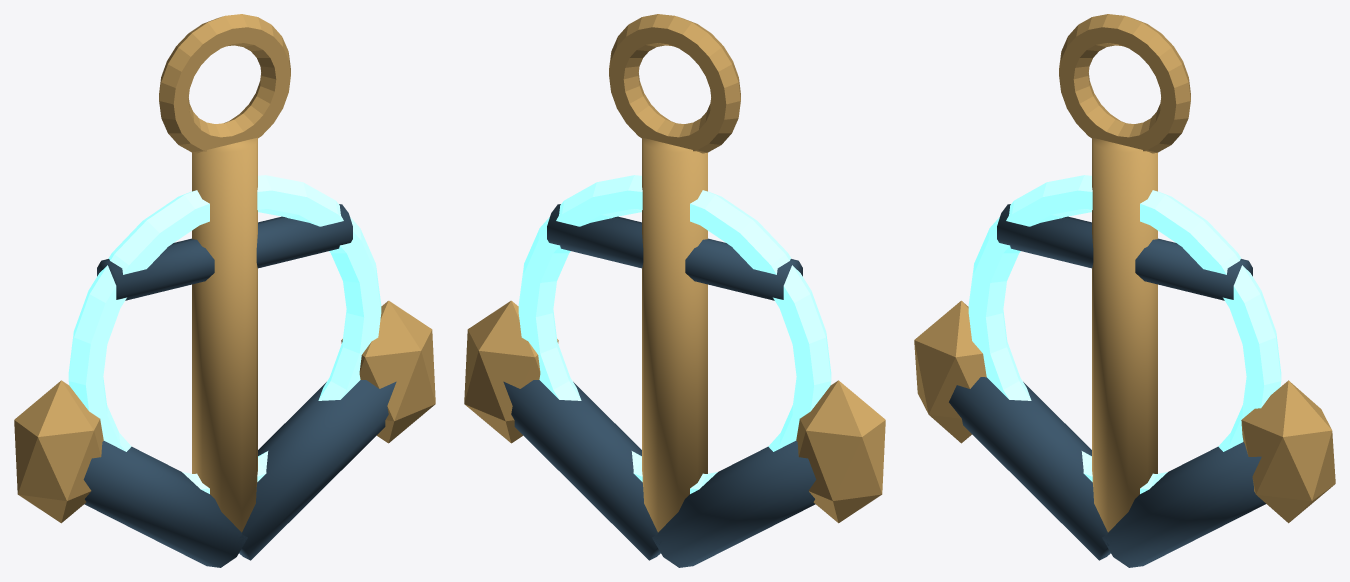
The model's file is relic-salvageMagnet.glb.
The picture shows the model from 3 angles, left to right: view 1: azimuth 30°, elevation 25°; view 2: azimuth 150°, elevation 25°; view 3: azimuth 330°, elevation 25°; orthographic projection.
Parts seen in each view (by area): view 1: relic-salvageMagnet / Brass | machined champagne, relic-salvageMagnet / Paint | Prussian blue, relic-salvageMagnet / Glass | luminous mint; view 2: relic-salvageMagnet / Brass | machined champagne, relic-salvageMagnet / Paint | Prussian blue, relic-salvageMagnet / Glass | luminous mint; view 3: relic-salvageMagnet / Brass | machined champagne, relic-salvageMagnet / Paint | Prussian blue, relic-salvageMagnet / Glass | luminous mint.
Boxes of the visible parts, box(x1,y1,x2,y2) form: relic-salvageMagnet / Brass | machined champagne: box(14, 14, 435, 532); relic-salvageMagnet / Paint | Prussian blue: box(83, 204, 396, 567); relic-salvageMagnet / Glass | luminous mint: box(68, 175, 381, 493); relic-salvageMagnet / Brass | machined champagne: box(464, 14, 885, 532); relic-salvageMagnet / Paint | Prussian blue: box(503, 204, 816, 567); relic-salvageMagnet / Glass | luminous mint: box(518, 175, 831, 493); relic-salvageMagnet / Brass | machined champagne: box(914, 14, 1335, 532); relic-salvageMagnet / Paint | Prussian blue: box(949, 204, 1265, 567); relic-salvageMagnet / Glass | luminous mint: box(968, 175, 1281, 493).
Bounding box in the file's own units: 1.7 × 2.14 × 0.2722.
